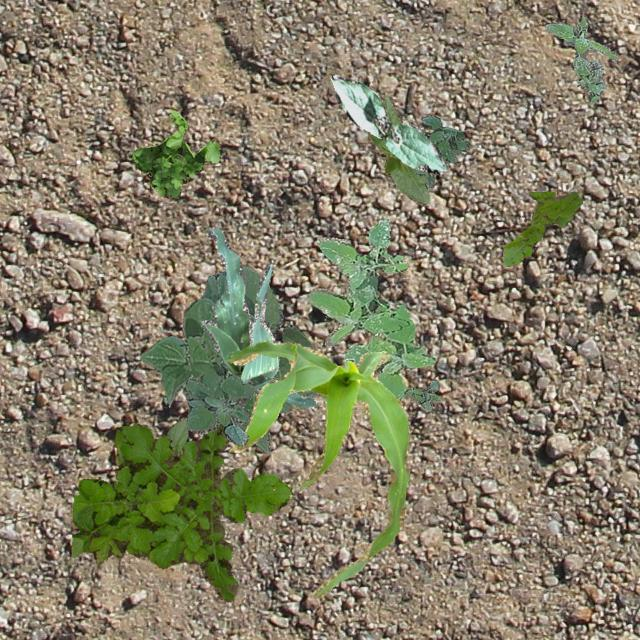crop: (228, 339, 408, 596), (138, 264, 318, 454), (200, 226, 316, 408), (330, 74, 446, 174), (366, 94, 428, 204), (166, 416, 187, 454)
weed: (70, 422, 290, 600), (306, 218, 434, 400), (127, 108, 220, 198), (544, 17, 616, 104), (502, 190, 582, 266), (182, 374, 254, 444), (414, 114, 468, 188), (402, 378, 440, 409)
